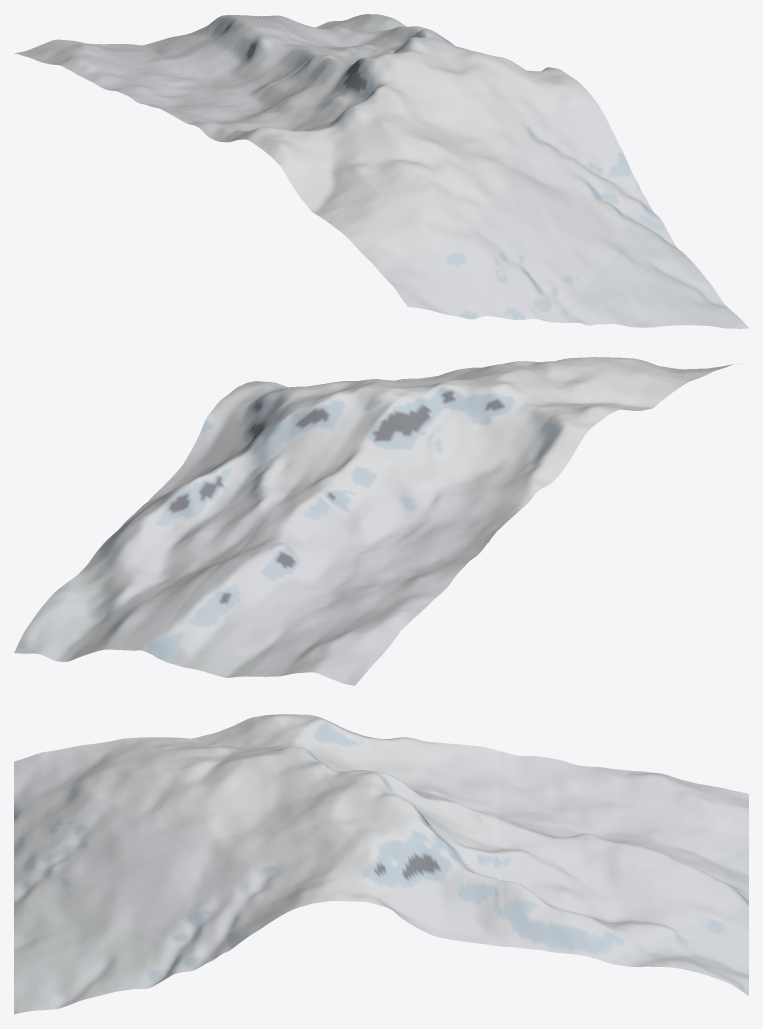
Rendered from whistler-peak.glb.
3 renders of one model, top to bottom at view 1: azimuth 30°, elevation 25°; view 2: azimuth 150°, elevation 25°; view 3: azimuth 270°, elevation 25°, orthographic. The views are drawn at different scales.
Visible parts, largest first — view 1: whistler_terrain_mesh; view 2: whistler_terrain_mesh; view 3: whistler_terrain_mesh.
Part boxes in pixels (box(x1,y1,x2,y2)): whistler_terrain_mesh: box(14, 14, 748, 328); whistler_terrain_mesh: box(14, 357, 745, 685); whistler_terrain_mesh: box(14, 714, 748, 1014).
Size of the model in its own units: 1600 by 782 by 3200.
